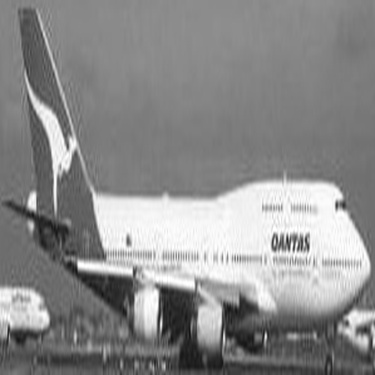airplane: (7, 8, 362, 350)
